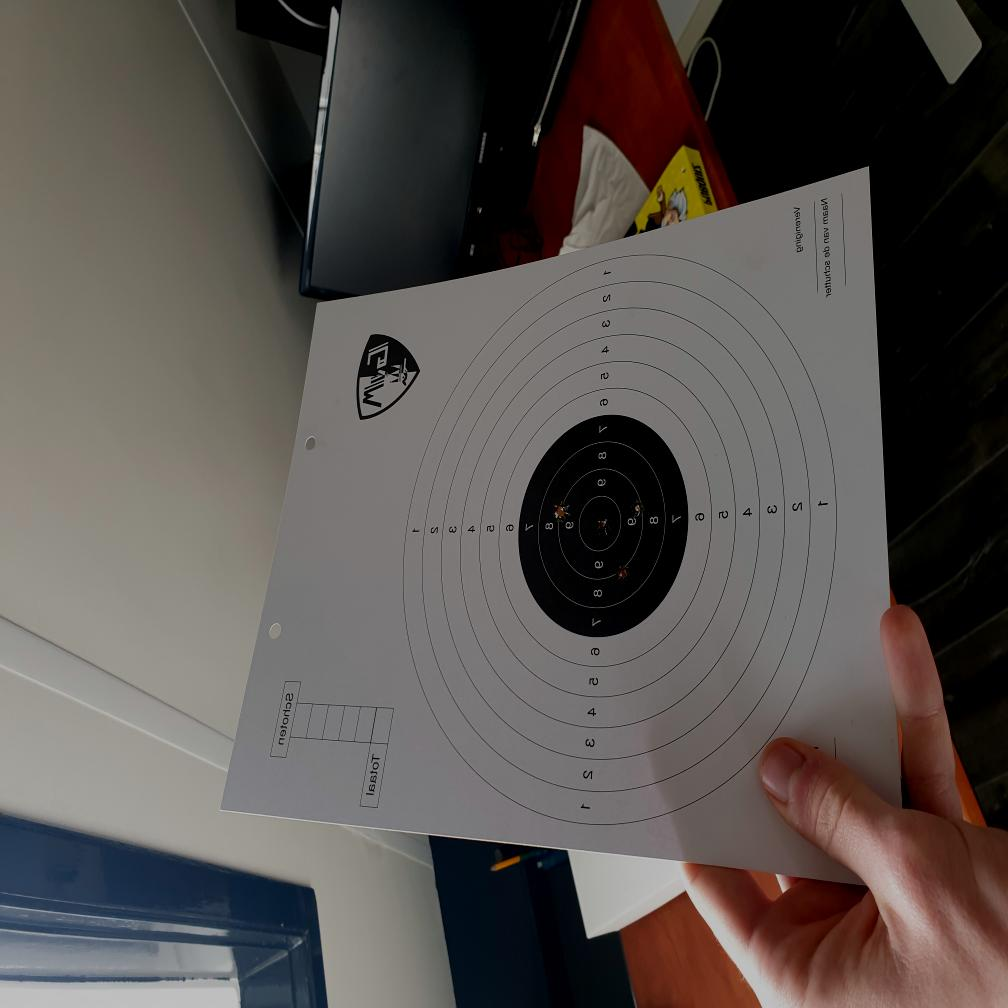10: (595, 515, 613, 539)
9: (553, 500, 570, 523), (615, 564, 630, 582), (631, 502, 644, 517)
Target: (401, 255, 837, 827)
black_contour: (518, 416, 688, 637)
